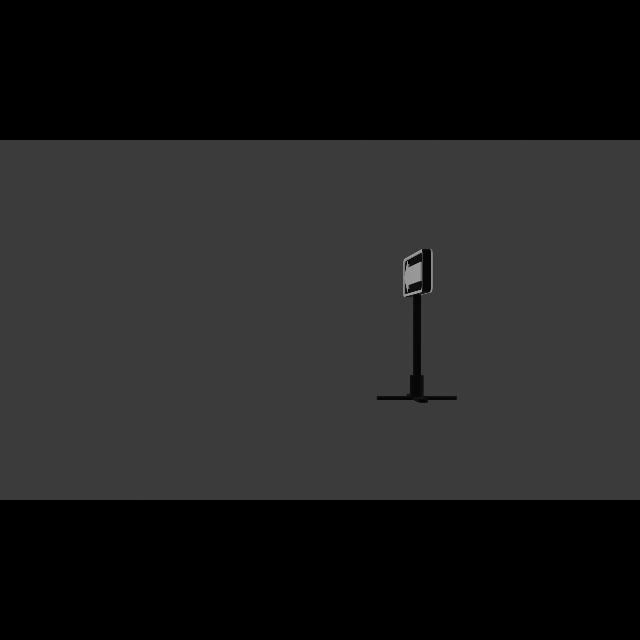sign_oneway_left: (401, 248, 435, 301)
